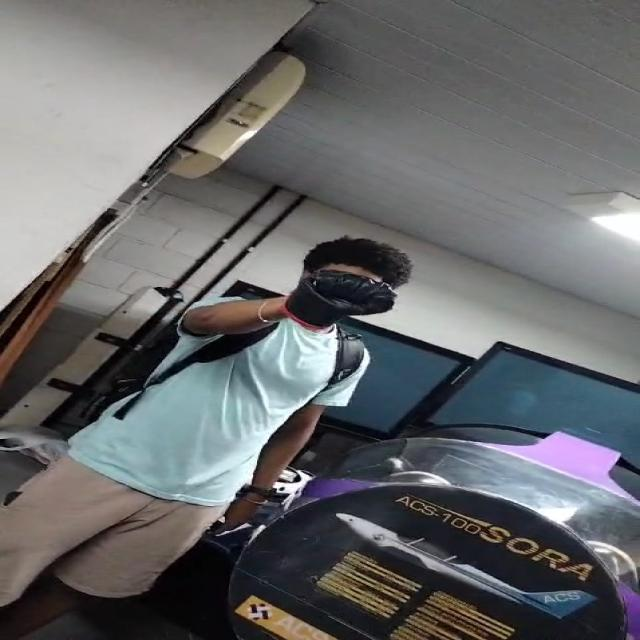Gloves: (284, 266, 395, 332)
